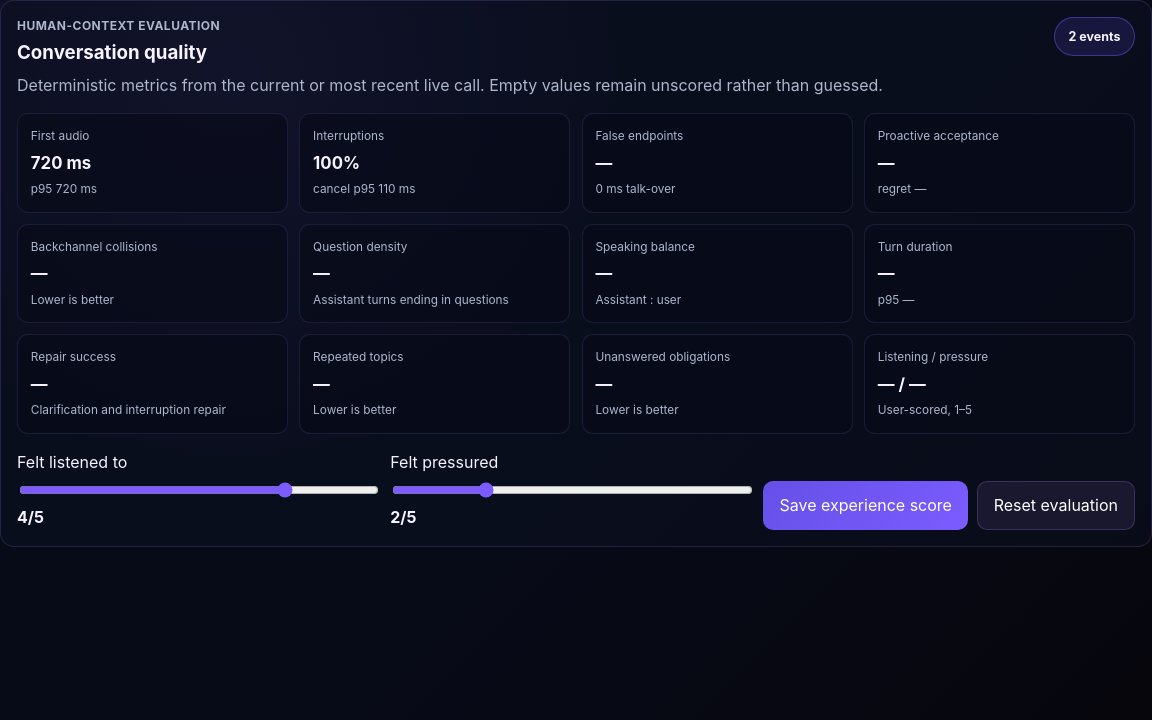
Test: LiveConversationEvaluationPanel › renders measured metrics and saves optional experience scores
Expected: the text "720 ms" is shown, [31,153,91,173]
Expected: the text "100%" is shown, [313,153,360,173]
Set the slider named "Perceived listening score" to "5" at (371, 490), box [19,482,379,498]
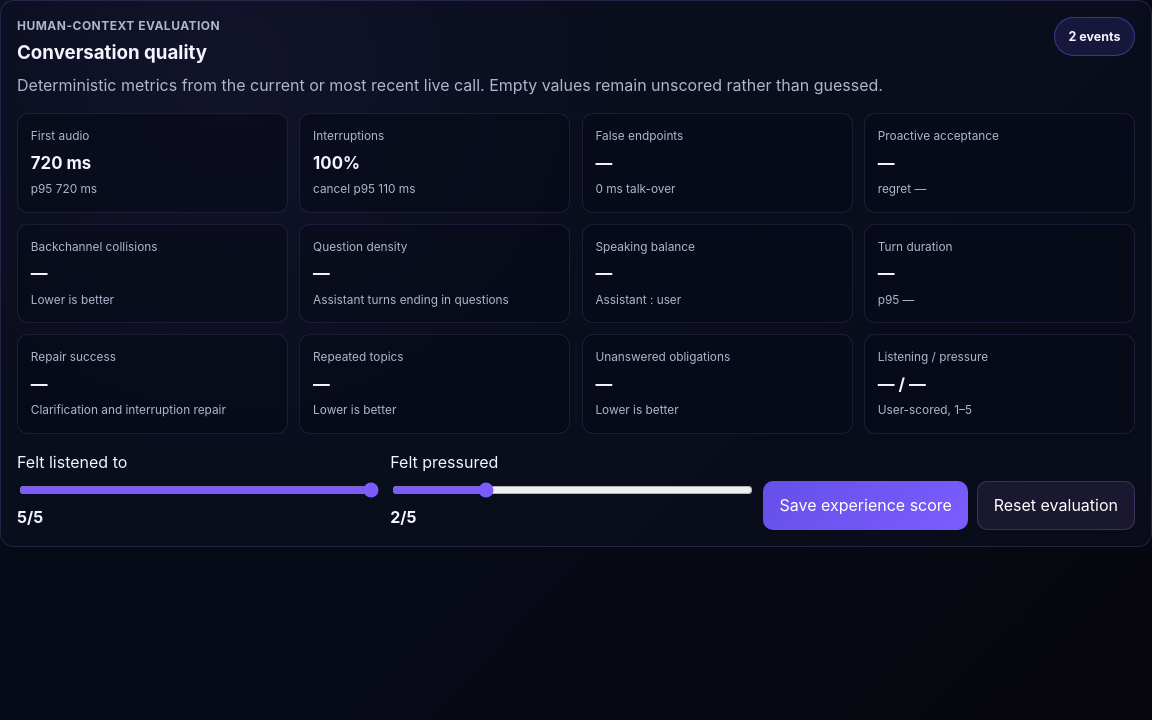
Set the slider named "Perceived pressure score" to "1" at (400, 490), box [392,482,753,498]
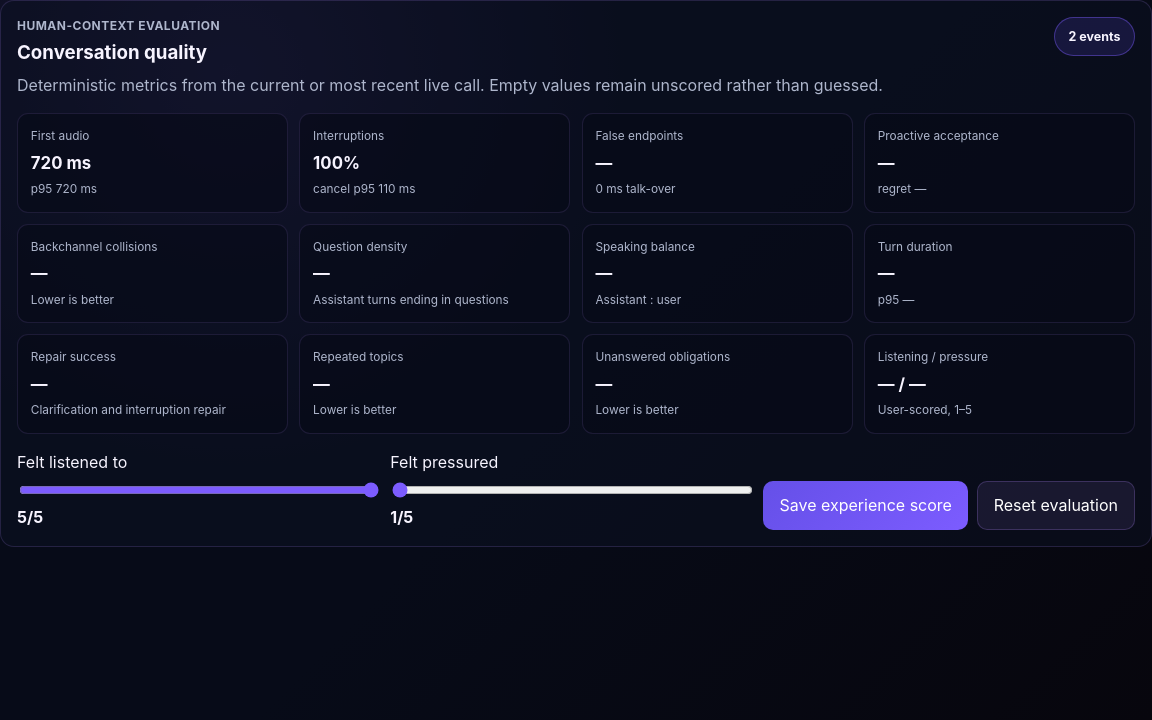
Click the button "Save experience score".
click(866, 506)  # box [764,481,968,530]
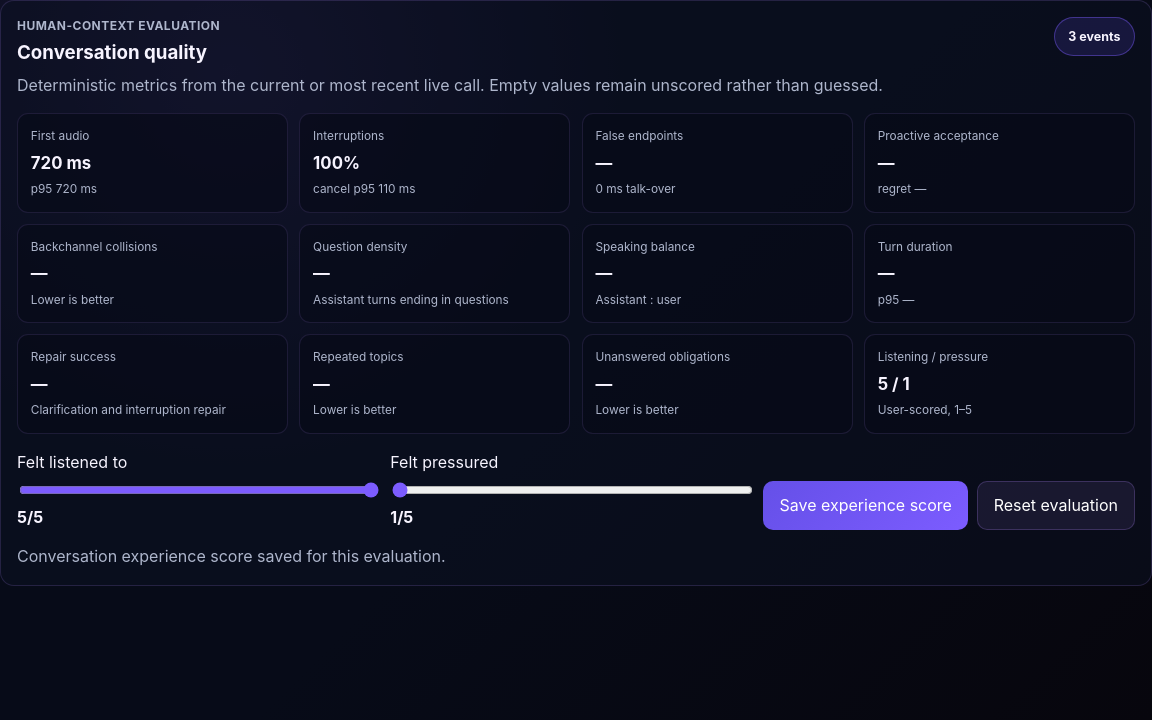
Expected: the message shows "Conversation experience score saved", [17,546,446,566]
Expected: the text "5 / 1" is shown, [878,374,910,394]
